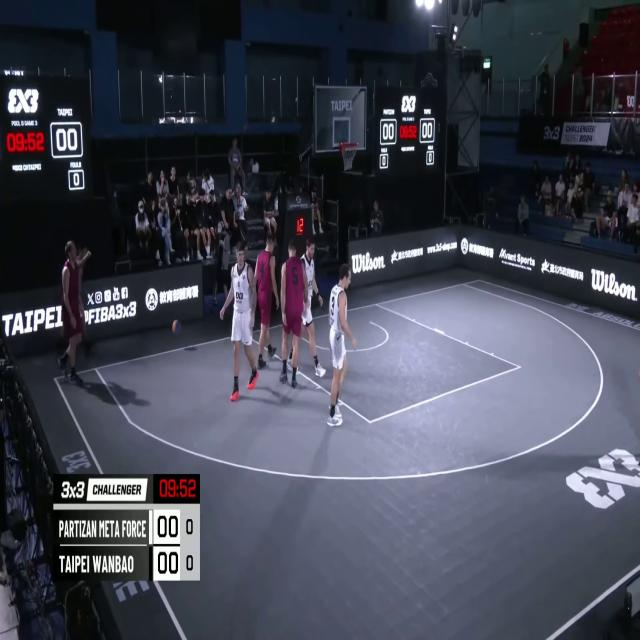ball: (171, 317, 183, 338)
hoop: (339, 137, 359, 173)
player: (220, 240, 259, 398), (286, 232, 327, 379), (325, 265, 356, 427), (56, 240, 89, 386), (280, 238, 308, 391), (254, 231, 281, 378)
